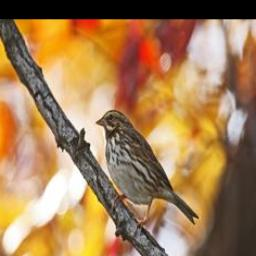Sparrow: (94, 108, 199, 233)
